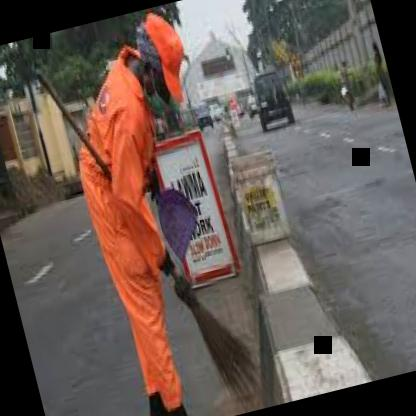car: (246, 58, 304, 148)
